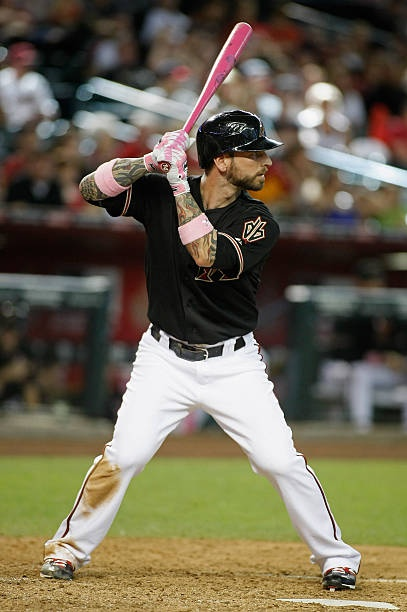bita: (160, 18, 249, 184)
